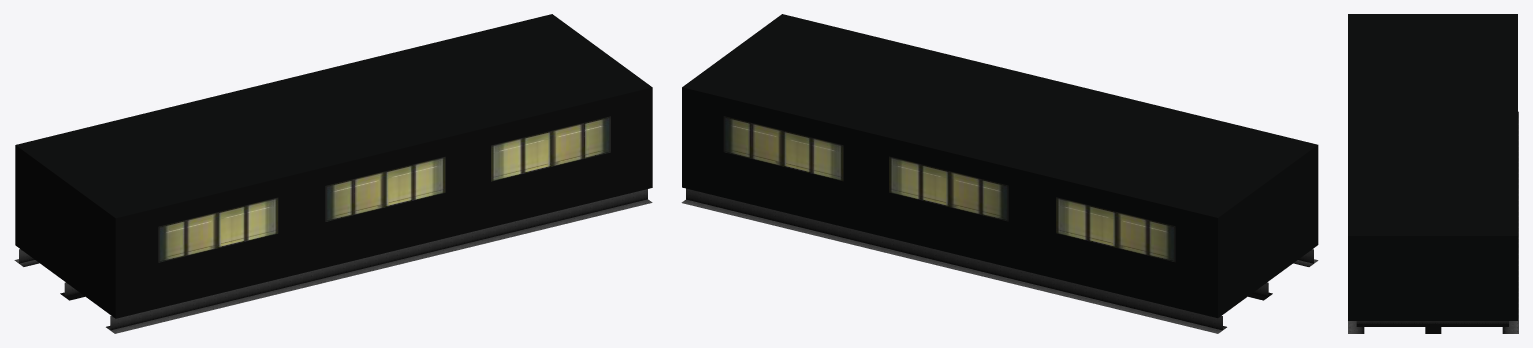
The model's file is AMB_ST_UP_S.glb.
3 views of the same model, side by side, from view 1: azimuth 30°, elevation 25°; view 2: azimuth 150°, elevation 25°; view 3: azimuth 270°, elevation 25° (orthographic). The views are drawn at different scales.
Parts seen in each view (by area): view 1: BASE; view 2: BASE; view 3: BASE.
Boxes of the visible parts, x1=… form: BASE: x1=14, y1=14, x2=652, y2=333; BASE: x1=681, y1=14, x2=1318, y2=333; BASE: x1=1348, y1=14, x2=1518, y2=333.
Size of the model in its own units: 78.2 by 16.05 by 25.52.
Materials: 4 (4 with a texture image).
